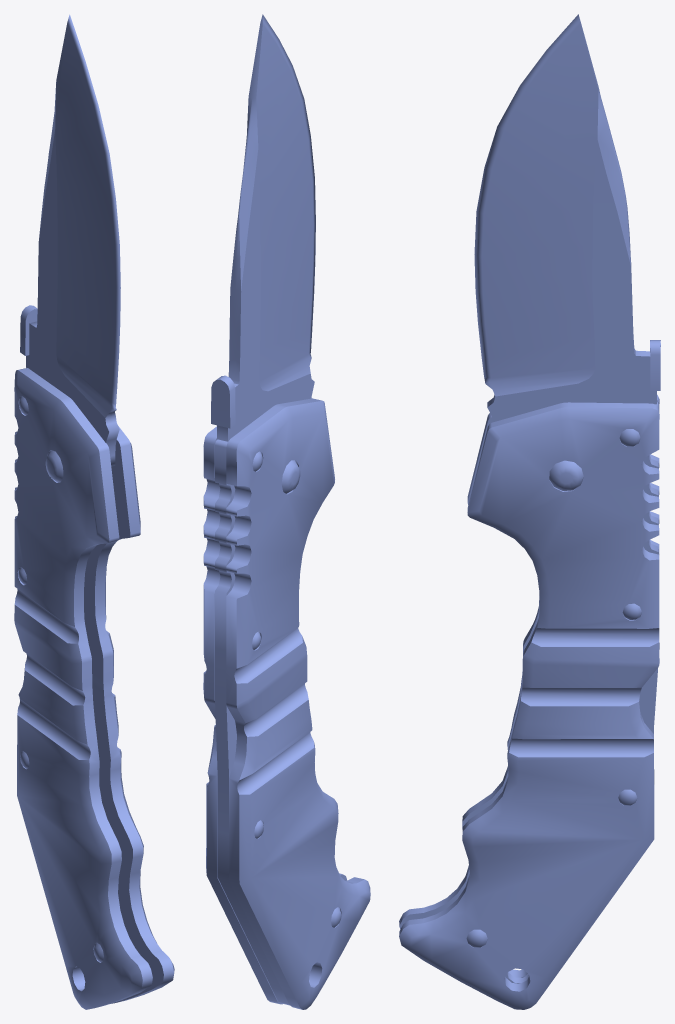
Rendered from Knife_07_Mesh.FBX.
3 renders of one model, left to right at view 1: azimuth 30°, elevation 25°; view 2: azimuth 150°, elevation 25°; view 3: azimuth 270°, elevation 25°, orthographic. The views are drawn at different scales.
Parts seen in each view (by area): view 1: Knife_07_Mesh; view 2: Knife_07_Mesh; view 3: Knife_07_Mesh.
Part boxes in pixels (bbox=[...]): Knife_07_Mesh: bbox=[14, 14, 174, 1009]; Knife_07_Mesh: bbox=[203, 14, 370, 1009]; Knife_07_Mesh: bbox=[399, 14, 660, 1009].
Size of the model in its own units: 1.52 by 6.61 by 27.51.
